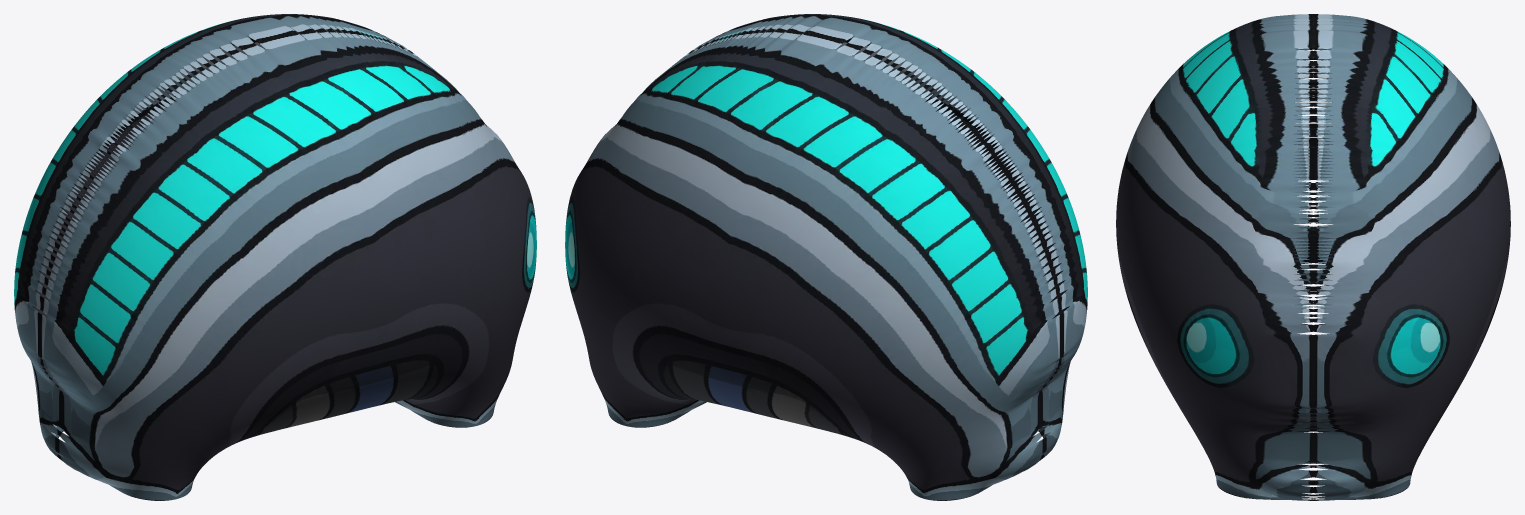
File: cyan_pipe_arch.glb
The picture shows the model from 3 angles, left to right: view 1: azimuth 30°, elevation 25°; view 2: azimuth 150°, elevation 25°; view 3: azimuth 270°, elevation 25°; orthographic projection. The views are drawn at different scales.
Visible parts, largest first — view 1: cyan_pipe_arch; view 2: cyan_pipe_arch; view 3: cyan_pipe_arch.
Part boxes in pixels (x1=…): cyan_pipe_arch: x1=14, y1=14, x2=536, y2=500; cyan_pipe_arch: x1=565, y1=14, x2=1087, y2=500; cyan_pipe_arch: x1=1116, y1=14, x2=1510, y2=500.
Size of the model in its own units: 0.989 by 0.7807 by 0.7458.
1 material, 1 textured.
